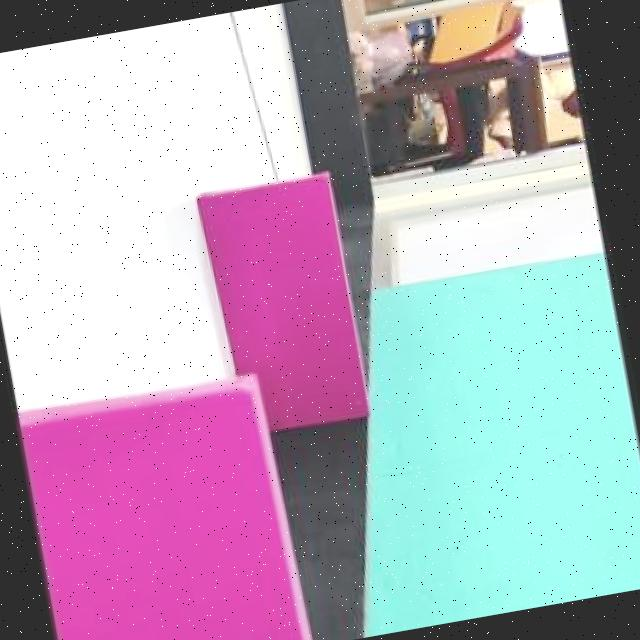xparking: (24, 372, 298, 640), (207, 179, 358, 364)
